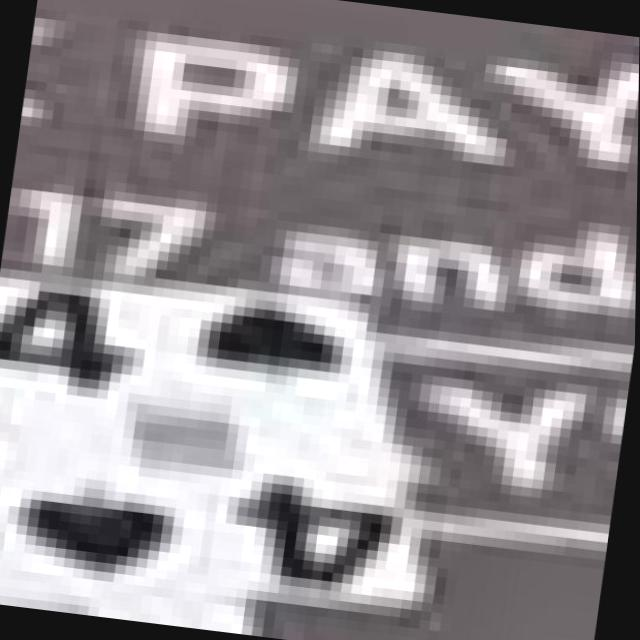Card-4: (0, 264, 428, 611)
